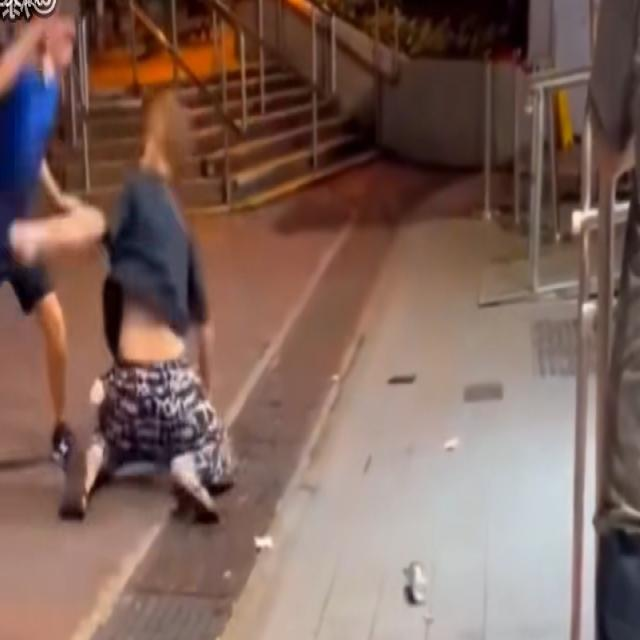fight: (0, 10, 229, 558)
